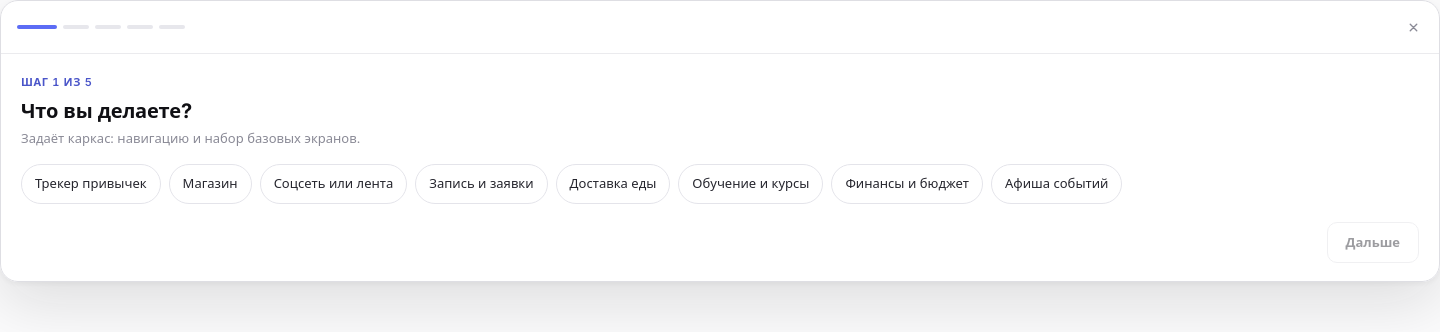
AiInterview › auto-advances to the next step 160ms after a single-select pick
Expected: the heading "Что вы делаете?" is shown, [21,98,192,122]
Click the button "Магазин" at (210, 184), box [169,164,252,204]
Wait 160 ms
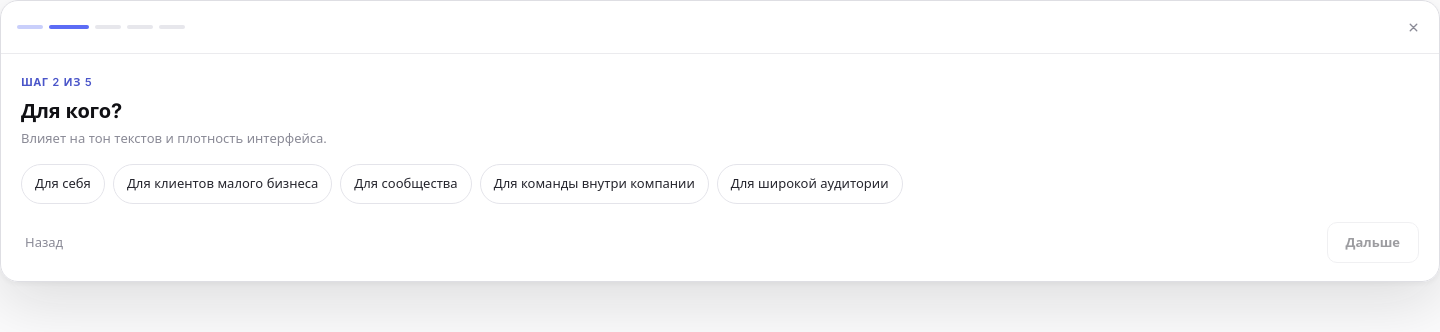
Now the heading "Для кого?" is shown, box [21,98,122,122]
